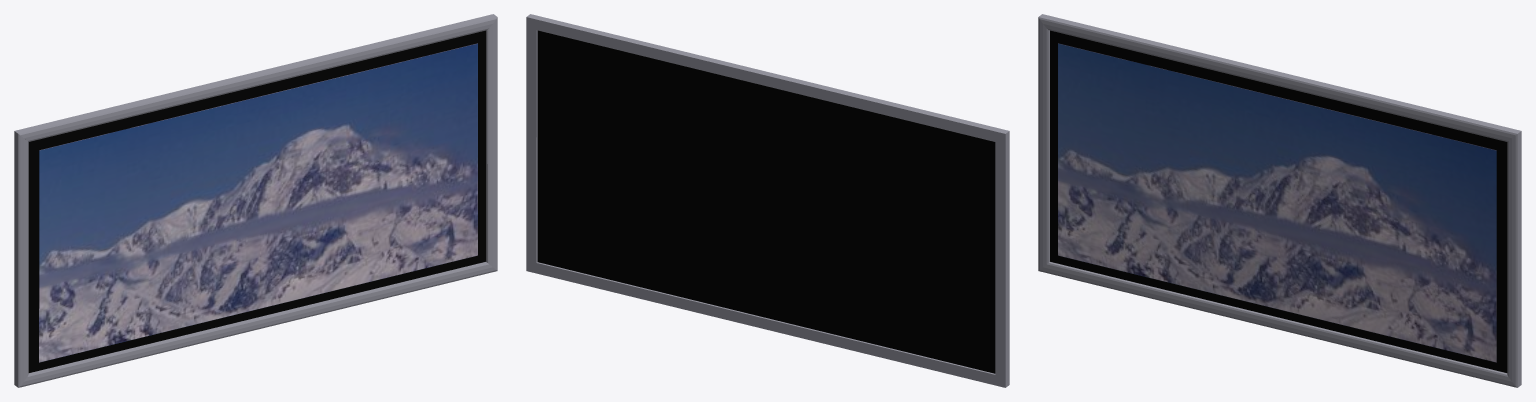
The model's file is MontBlancFrame.obj.
3 renders of one model, left to right at view 1: azimuth 30°, elevation 25°; view 2: azimuth 150°, elevation 25°; view 3: azimuth 330°, elevation 25°, orthographic.
Visible parts, largest first — view 1: Photo_Cube_Material_MontBlanc.jpg, MetalFrame_Cylinder_Aluminium.008, Frame_Black_Material.009; view 2: Frame_Black_Material.009, MetalFrame_Cylinder_Aluminium.008; view 3: Photo_Cube_Material_MontBlanc.jpg, MetalFrame_Cylinder_Aluminium.008, Frame_Black_Material.009.
Part boxes in pixels (x1,y1,x2,y2): Photo_Cube_Material_MontBlanc.jpg: (39,43,477,362); MetalFrame_Cylinder_Aluminium.008: (14,14,497,387); Frame_Black_Material.009: (28,30,485,372); Frame_Black_Material.009: (537,30,995,373); MetalFrame_Cylinder_Aluminium.008: (526,14,1009,387); Photo_Cube_Material_MontBlanc.jpg: (1058,43,1496,362); MetalFrame_Cylinder_Aluminium.008: (1038,14,1521,387); Frame_Black_Material.009: (1050,30,1507,372).
Size of the model in its own units: 94.47 by 47.86 by 1.6.
